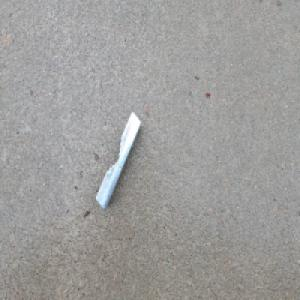ClampPart: (95, 110, 142, 211)
